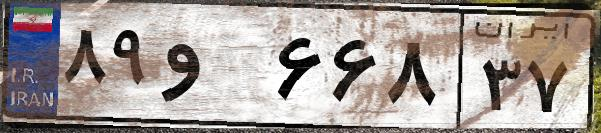3: (475, 38, 525, 113)
6: (270, 28, 330, 110), (330, 28, 385, 110)
7: (525, 38, 570, 115)
8: (385, 28, 445, 110), (57, 26, 110, 100)
9: (110, 28, 158, 98)
و: (158, 20, 270, 120)
